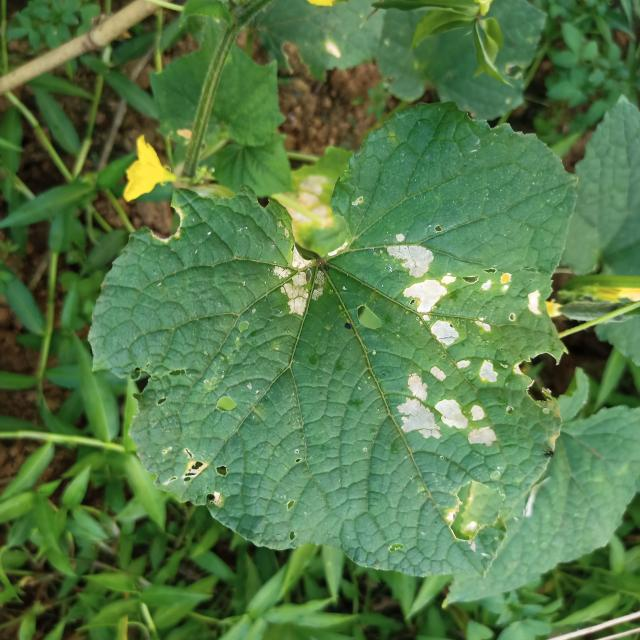disease_cucumber: (373, 230, 547, 352), (367, 352, 518, 455), (260, 241, 334, 326)
